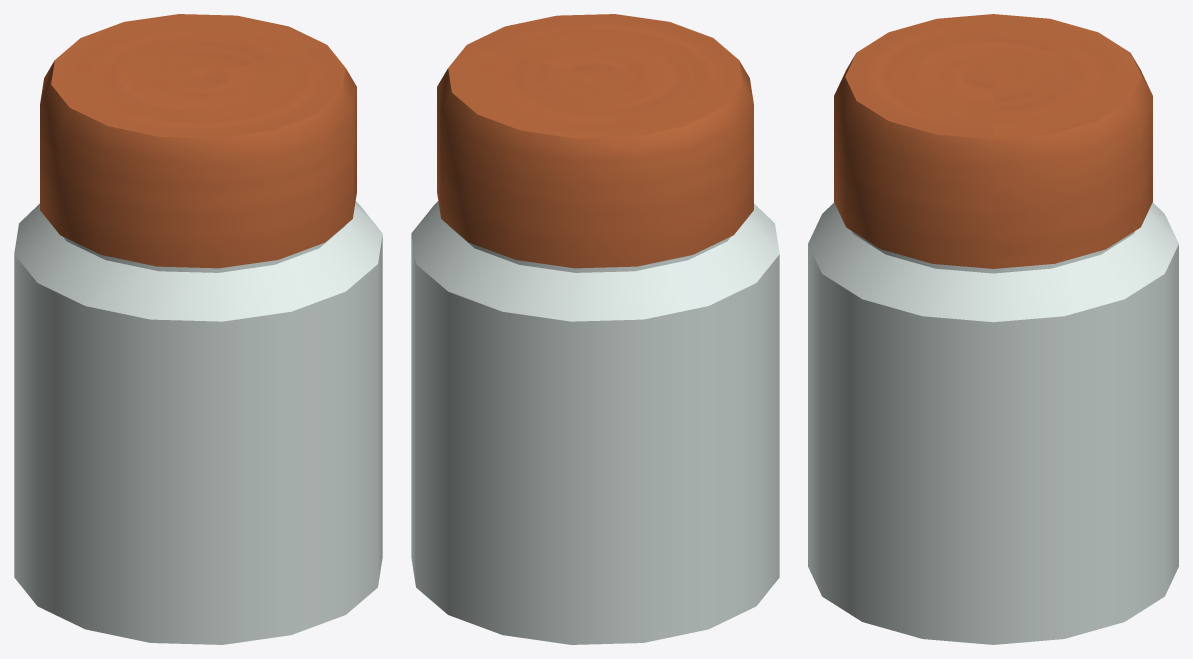
File: SM_Jar_S_Berry.fbx
The picture shows the model from 3 angles, left to right: view 1: azimuth 30°, elevation 25°; view 2: azimuth 150°, elevation 25°; view 3: azimuth 270°, elevation 25°; orthographic projection.
Visible parts, largest first — view 1: SM_Jar_S_Berry; view 2: SM_Jar_S_Berry; view 3: SM_Jar_S_Berry.
Boxes of the visible parts, <box> form: SM_Jar_S_Berry: <box>14,14,382,644</box>; SM_Jar_S_Berry: <box>411,14,779,644</box>; SM_Jar_S_Berry: <box>808,14,1178,644</box>.
Size of the model in its own units: 0.07 by 0.102 by 0.07.
3 materials, 3 textured.
